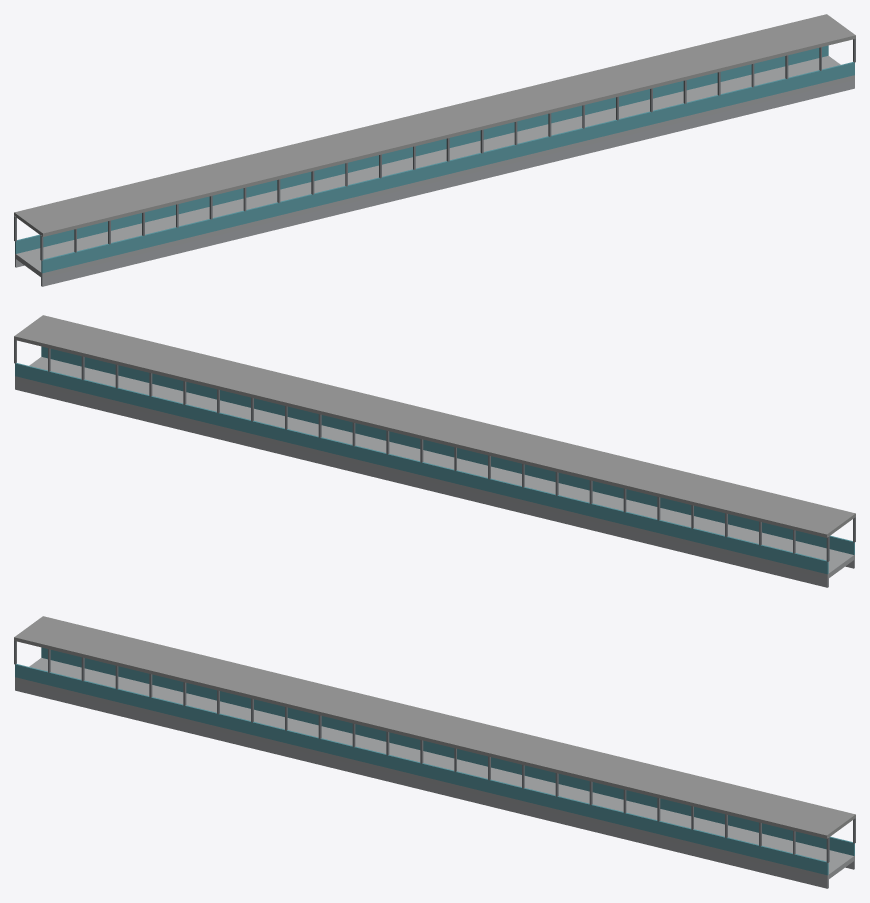
The model's file is hosp-bridge-60.mega-v2.lod1.glb.
3 renders of one model, top to bottom at view 1: azimuth 30°, elevation 25°; view 2: azimuth 150°, elevation 25°; view 3: azimuth 330°, elevation 25°, orthographic.
Visible parts, largest first — view 1: hosp-bridge-60; view 2: hosp-bridge-60; view 3: hosp-bridge-60.
Boxes of the visible parts, x1,y1,x2,y2 form: hosp-bridge-60: [14, 14, 855, 286]; hosp-bridge-60: [14, 315, 855, 587]; hosp-bridge-60: [14, 616, 855, 888].
Size of the model in its own units: 60.12 by 3.8 by 3.7.
